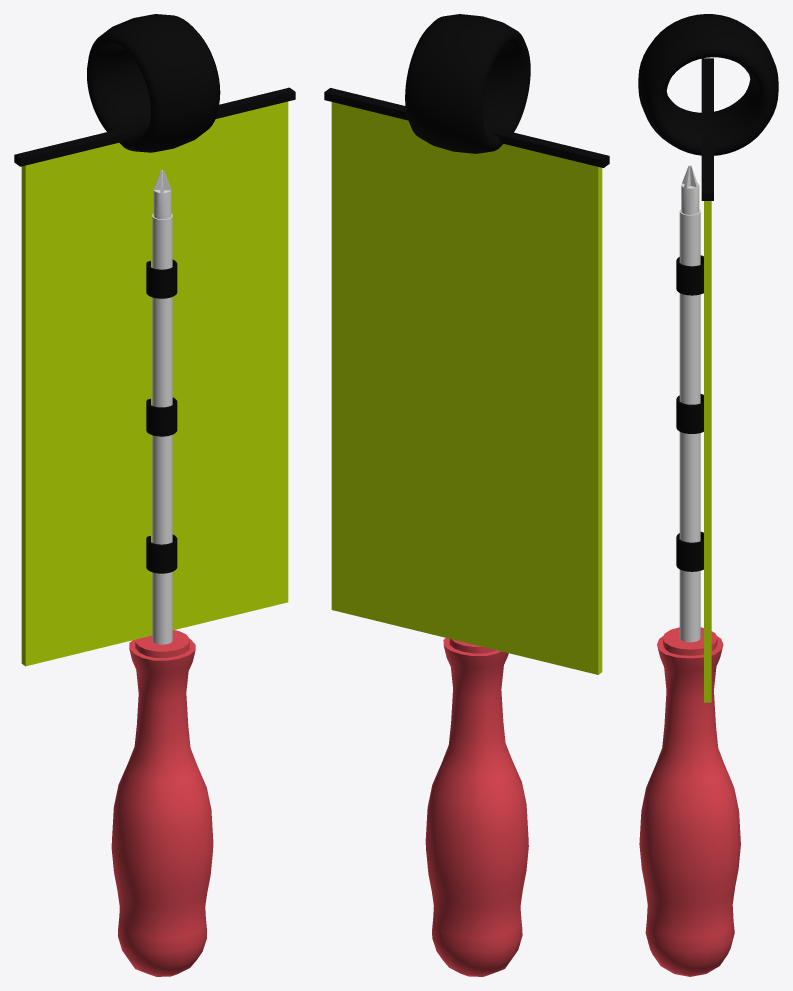
File: screwdriver.fbx
3 views of the same model, side by side, from view 1: azimuth 30°, elevation 25°; view 2: azimuth 150°, elevation 25°; view 3: azimuth 270°, elevation 25° (orthographic).
Parts seen in each view (by area): view 1: Cubo, Handle_Lowpoly, Toroide, Middle_Part_Lowpoly, Cilindro, Cilindro.002, Cilindro.001, Tip_Lowpoly; view 2: Cubo, Handle_Lowpoly, Toroide; view 3: Handle_Lowpoly, Toroide, Middle_Part_Lowpoly, Cubo, Cilindro, Cilindro.001, Cilindro.002, Tip_Lowpoly.
Boxes of the visible parts, <box> form: Cubo: <box>14,87,295,666</box>; Handle_Lowpoly: <box>111,630,213,976</box>; Toroide: <box>87,14,220,152</box>; Middle_Part_Lowpoly: <box>152,213,172,644</box>; Cilindro: <box>146,259,177,298</box>; Cilindro.002: <box>146,397,177,436</box>; Cilindro.001: <box>146,534,177,573</box>; Tip_Lowpoly: <box>153,170,171,219</box>; Cubo: <box>324,88,609,674</box>; Handle_Lowpoly: <box>425,638,528,976</box>; Toroide: <box>405,14,530,153</box>; Handle_Lowpoly: <box>639,627,740,976</box>; Toroide: <box>638,14,778,155</box>; Middle_Part_Lowpoly: <box>679,209,700,642</box>; Cubo: <box>701,58,713,702</box>; Cilindro: <box>676,255,703,295</box>; Cilindro.001: <box>676,531,703,571</box>; Cilindro.002: <box>676,394,703,433</box>; Tip_Lowpoly: <box>681,165,699,214</box>.
Size of the model in its own units: 419 by 1374 by 184.
